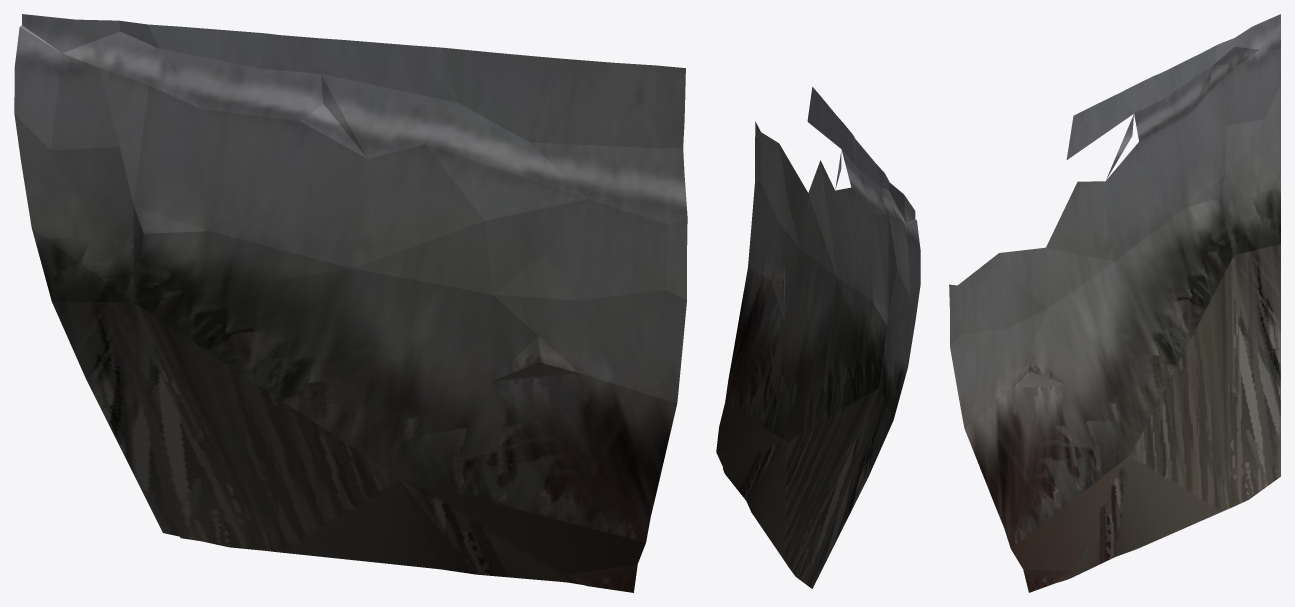
3 views of the same model, side by side, from view 1: azimuth 30°, elevation 25°; view 2: azimuth 150°, elevation 25°; view 3: azimuth 270°, elevation 25° (orthographic). The views are drawn at different scales.
Bounding box in the file's own units: 0.7005 × 0.8374 × 0.6017.
Materials: 2 (2 with a texture image).
